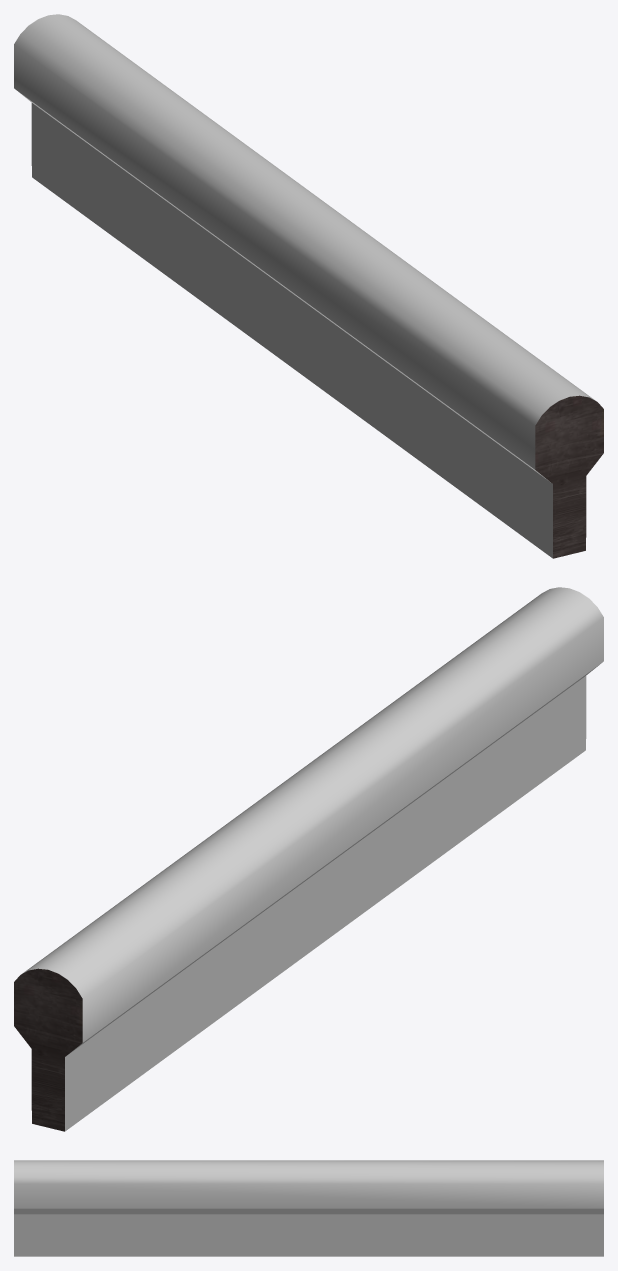
Rendered from SM_Roof_Foundation_37.FBX.
3 renders of one model, top to bottom at view 1: azimuth 30°, elevation 25°; view 2: azimuth 150°, elevation 25°; view 3: azimuth 270°, elevation 25°, orthographic. The views are drawn at different scales.
Visible parts, largest first — view 1: SM_Roof_Foundation_37; view 2: SM_Roof_Foundation_37; view 3: SM_Roof_Foundation_37.
Boxes of the visible parts, box(x1,y1,x2,y2) form: SM_Roof_Foundation_37: box(14, 14, 603, 558); SM_Roof_Foundation_37: box(14, 587, 603, 1131); SM_Roof_Foundation_37: box(14, 1160, 603, 1256).
Size of the model in its own units: 42.99 by 94.34 by 564.
